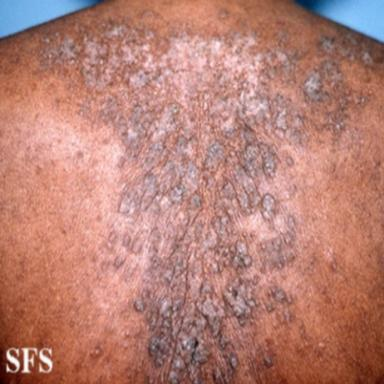Darier_s-Disease: (22, 7, 384, 384)
